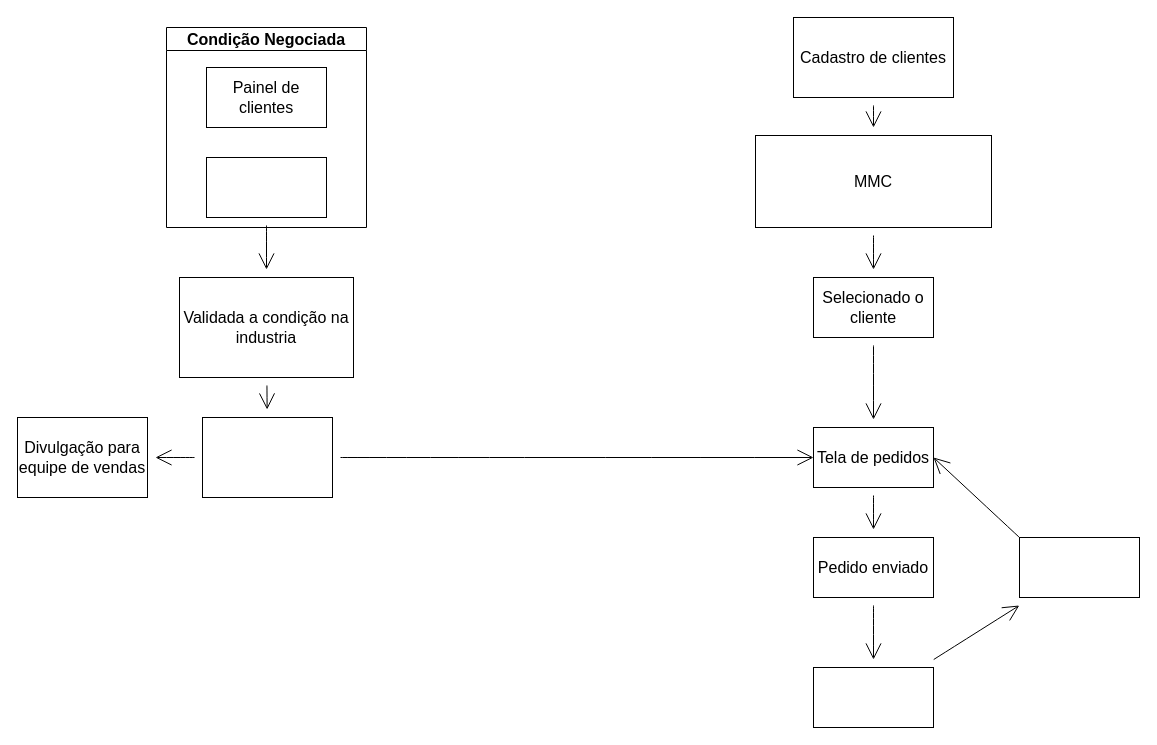
This 1157x745 diagram has some shape labels left out. The centre of each missing label's shape, as x and y in pixels:
Produtos e descontos: (266,187)
Recebimento na industria: (873,697)
Retorno gerado: (1079,567)
Subida da condição no MMC: (267,457)
